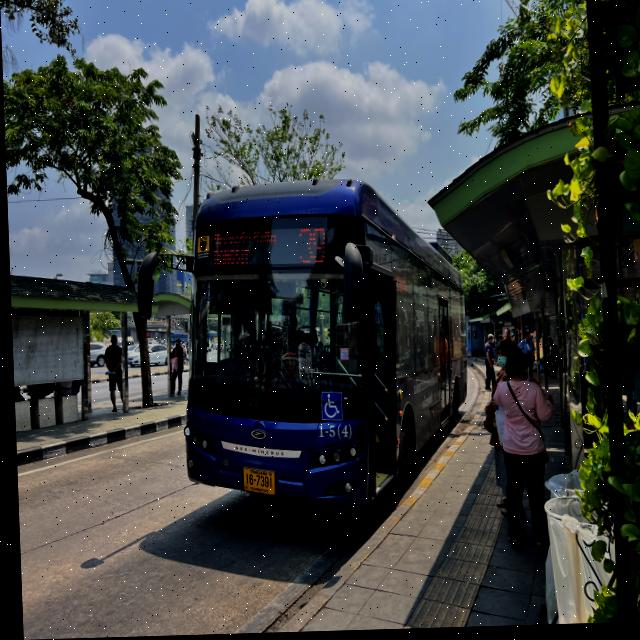Bus-Line-Number: (292, 224, 330, 270)
Destination-Sign-Normal: (205, 228, 281, 273)
TSB-Bus: (173, 180, 469, 519)
